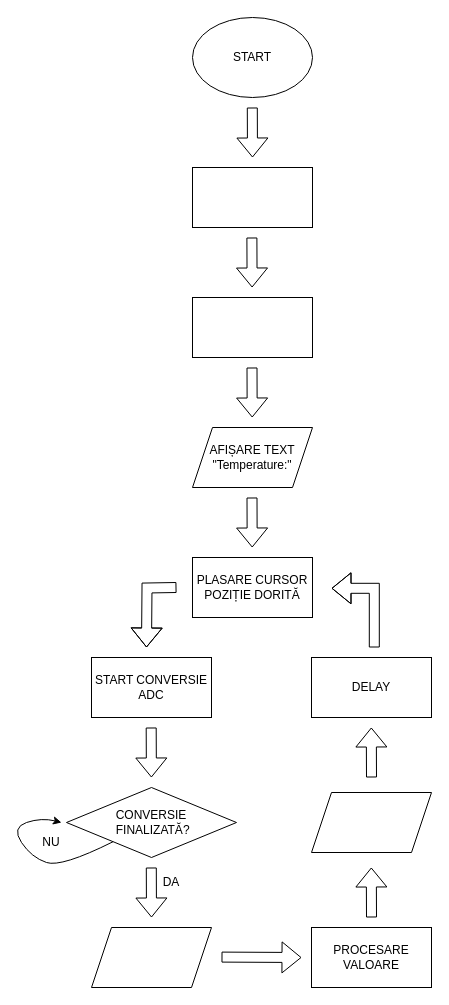
This 449x1005 diagram has some shape labels left out. Here are the shapes that lost their labels. From the top down, the centre of each, then its label:
At [252,197]: "INIȚIALIZARE PORTURI".
At [252,327]: "INIȚIALIZARE LCD".
At [371,822]: "AFIȘARE VALOARE".
At [151,957]: "CITIRE VALOARE ADC".
